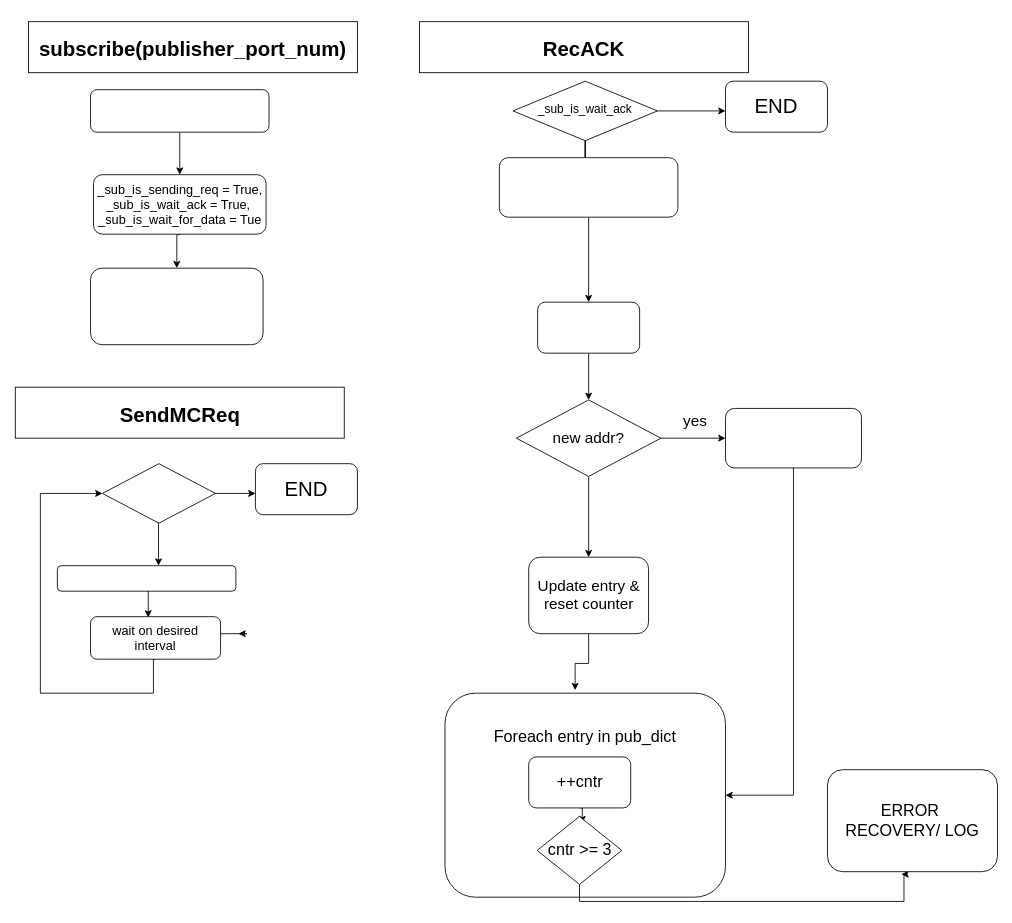
The diagram is 1012 pixels wide and 923 high, and some of its shapes have lost their labels. Each missing label, with the centre of its shape:
_sub_is_sending_req: [158,493]
accept connection: [588,187]
attach_thread(SendMCReq) attach_thread(RecAck) attack_thread(RecMsg): [176,306]
configure tcp, udp , MCudp sockets: [179,110]
Initialize new entry pub_dict[addr]: [793,438]
Rec: [588,327]
Sendto(MCGroup): [146,578]
